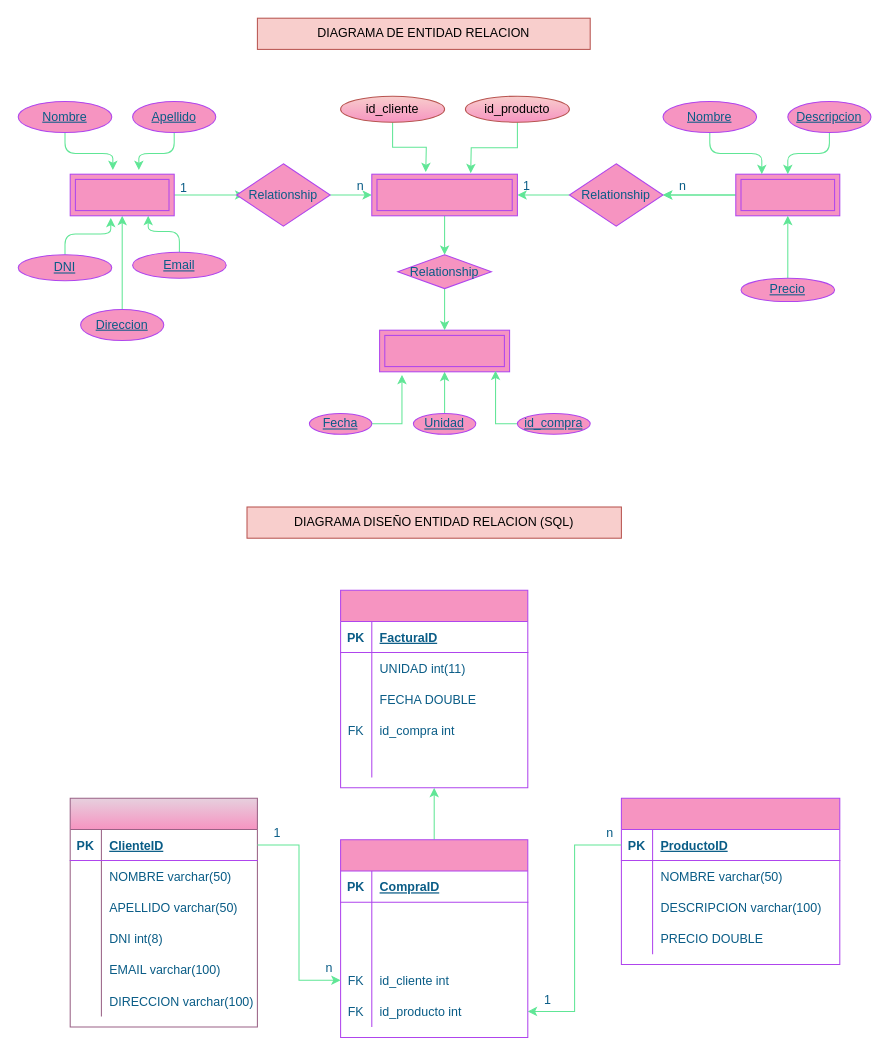
This 889x1056 diagram has some shape labels left out. The shapes that lost their labels are listed below. From the top down, each one's box as (x1, y1, x2, y2) in pixels, then its label:
(69, 173, 174, 216): CLIENTE
(371, 173, 517, 216): COMPRA
(735, 173, 840, 216): PRODUCTO
(379, 329, 510, 372): FACTURA
(340, 589, 528, 788): tabla Factura
(620, 797, 840, 965): tabla Producto
(69, 797, 257, 1027): tabla Cliente
(340, 839, 528, 1037): tabla Compra
